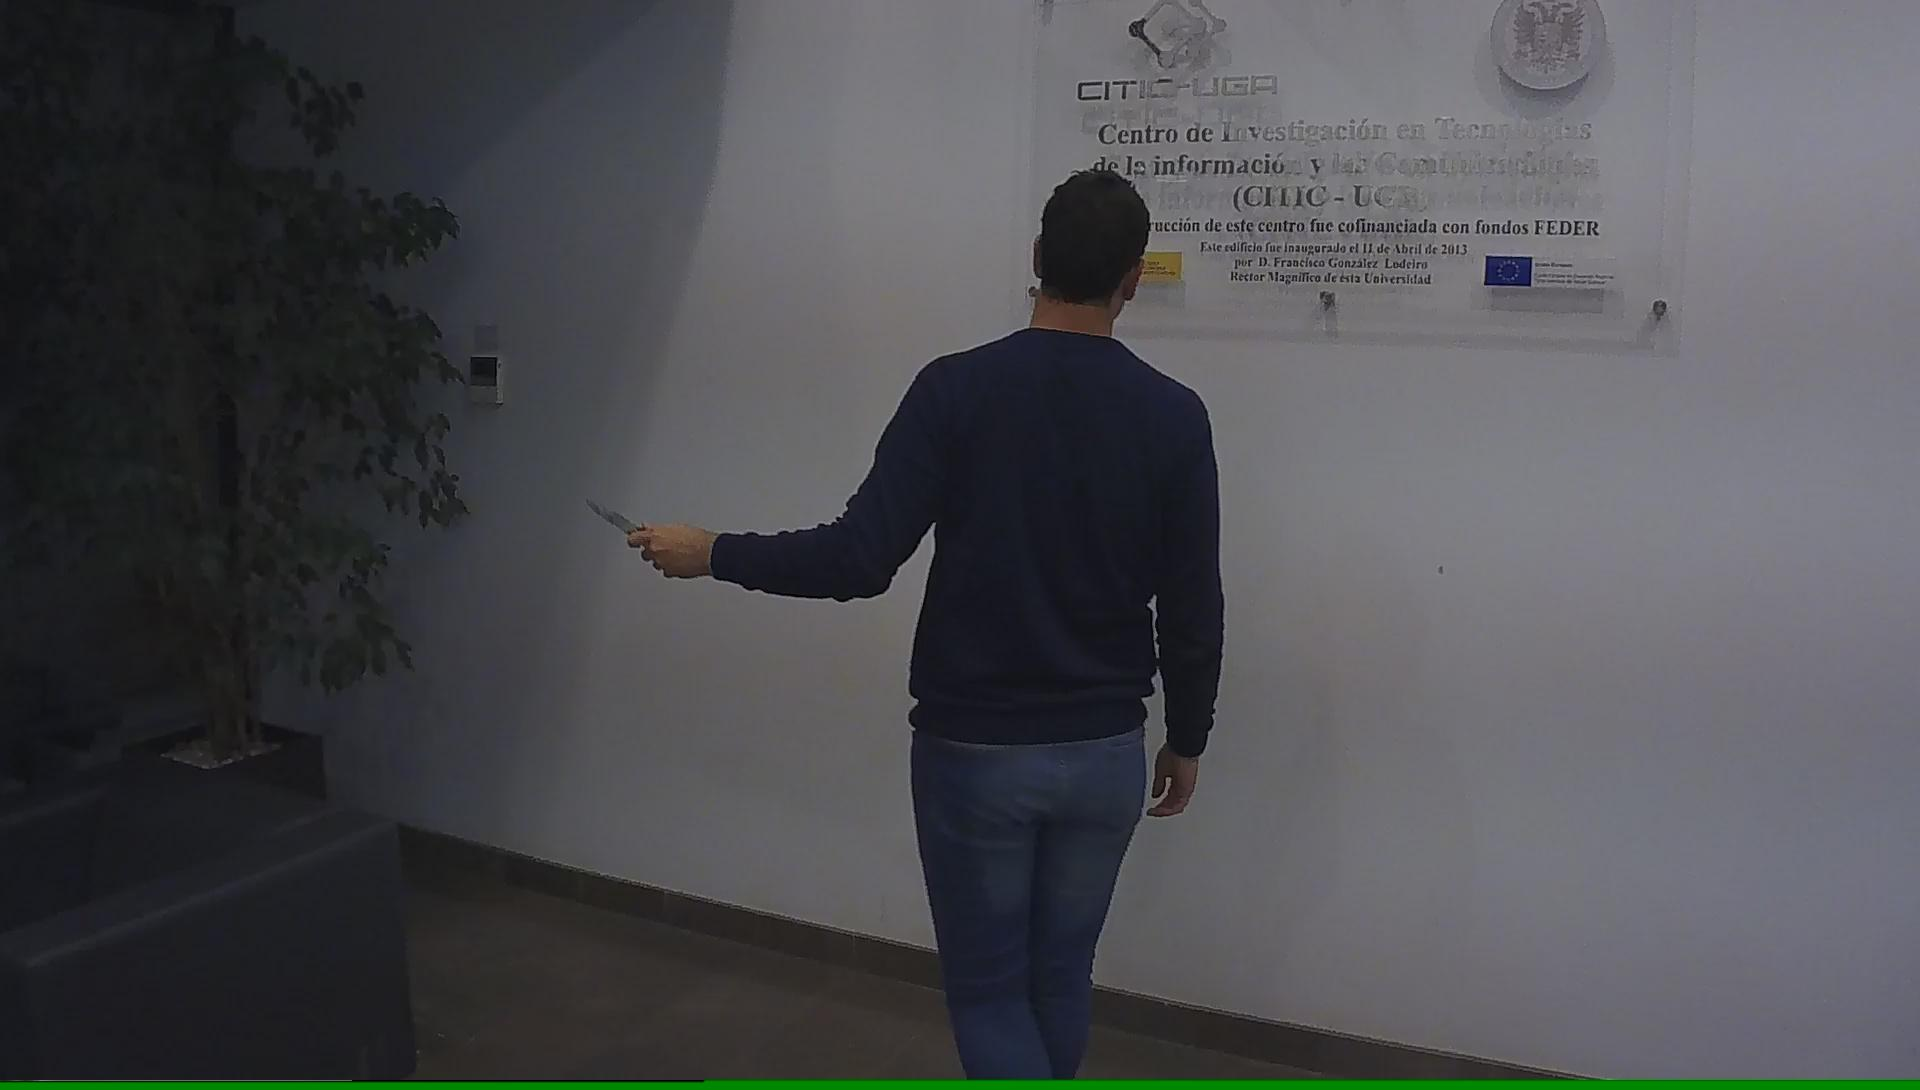criminal: (582, 167, 1224, 1079)
weapon: (587, 488, 654, 546)
